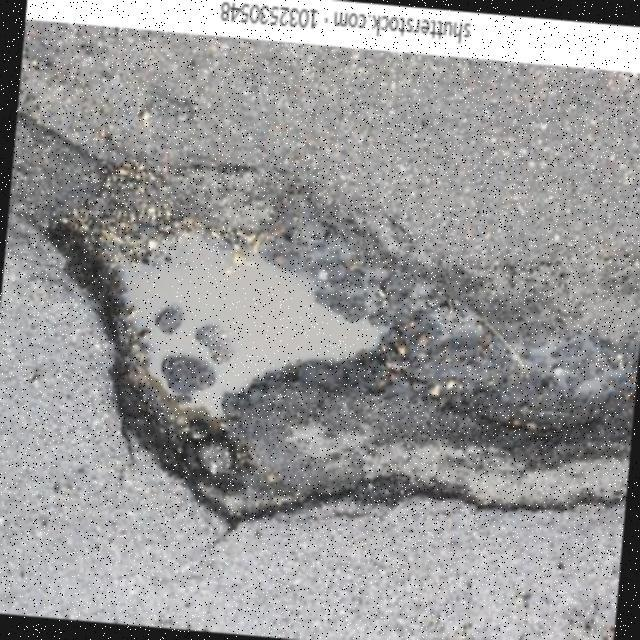Pothole: (9, 111, 640, 526)
